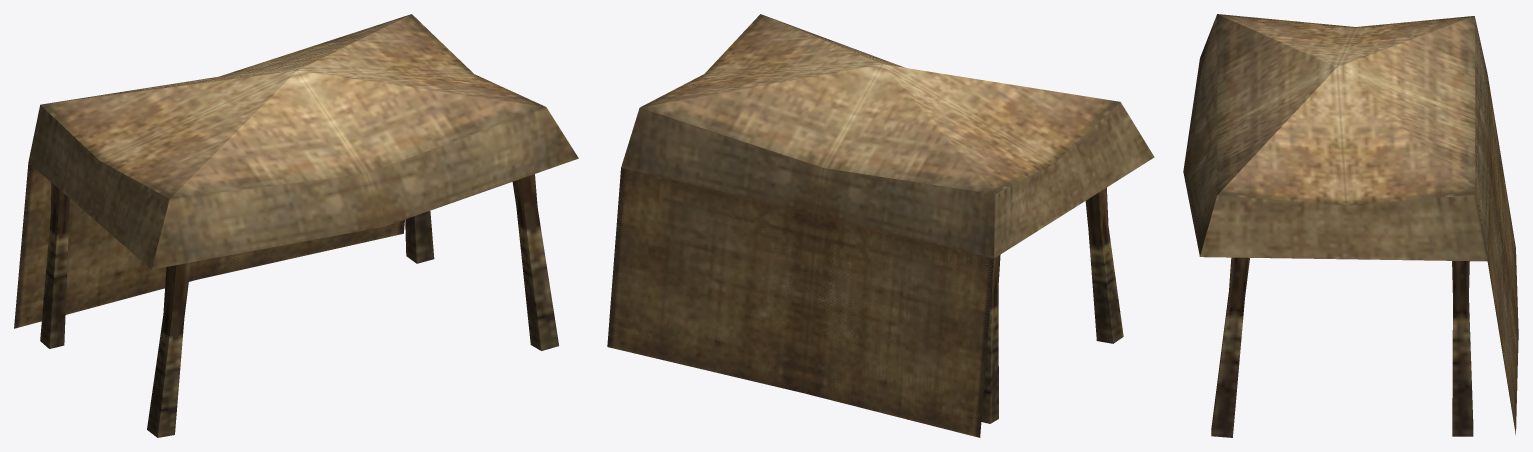
File: b_general_obj_06.fbx
The picture shows the model from 3 angles, left to right: view 1: azimuth 30°, elevation 25°; view 2: azimuth 150°, elevation 25°; view 3: azimuth 270°, elevation 25°; orthographic projection. The views are drawn at different scales.
Visible parts, largest first — view 1: Object02; view 2: Object02; view 3: Object02.
Boxes of the visible parts, bbox=[...] form: Object02: bbox=[14, 14, 578, 437]; Object02: bbox=[607, 14, 1154, 437]; Object02: bbox=[1183, 14, 1518, 437].
Bounding box in the file's own units: 5.57 × 3.49 × 3.84.
